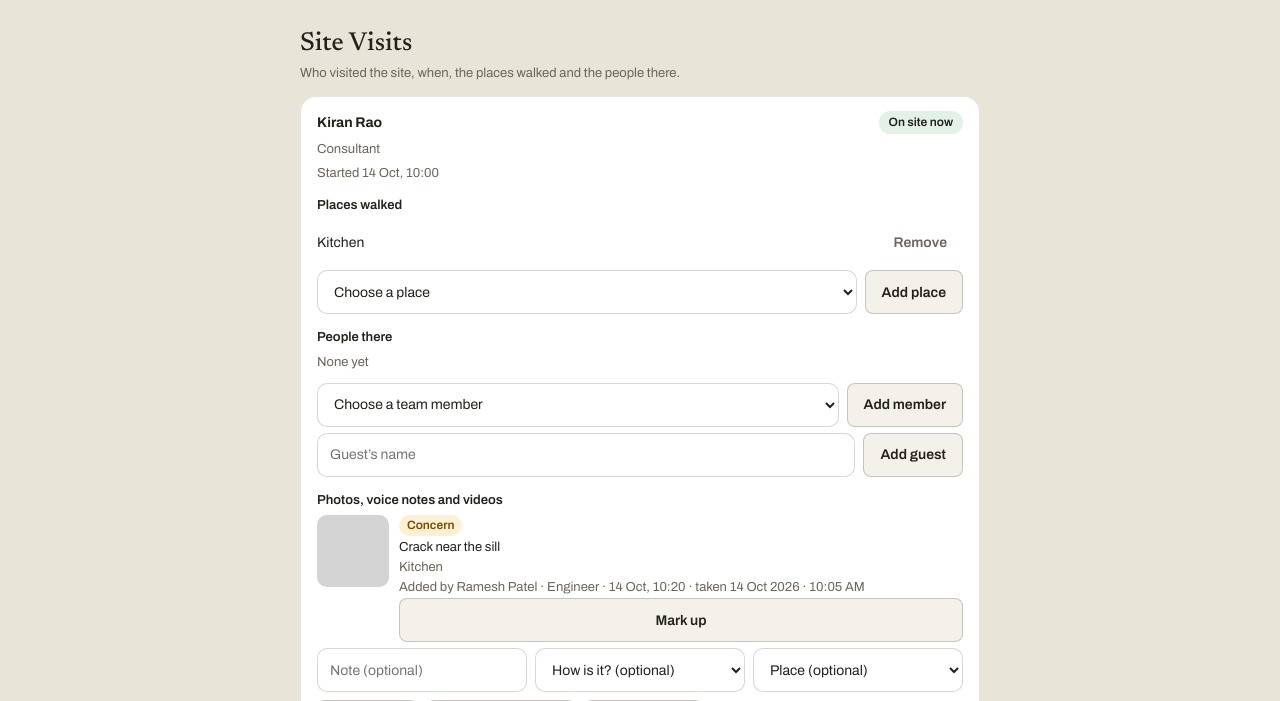
Test: Site Visits M3: Mark up on a visit’s photos › stops an open on Cancel: the download is aborted, and a late answer never opens the editor or says anything
The width and height of the screenshot is (1280, 701).
Click the button "Mark up": (681, 620) x1=399 y1=598 x2=963 y2=642
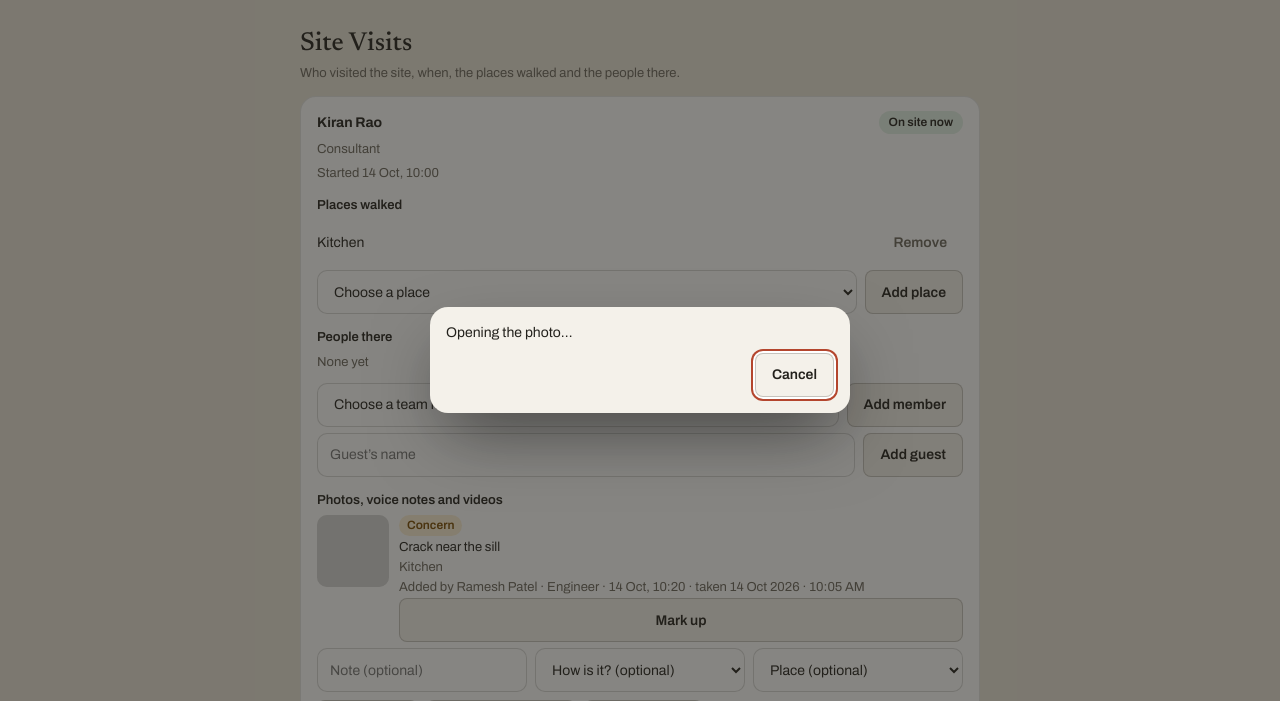
Click the button "Cancel": (794, 375) x1=755 y1=353 x2=834 y2=397
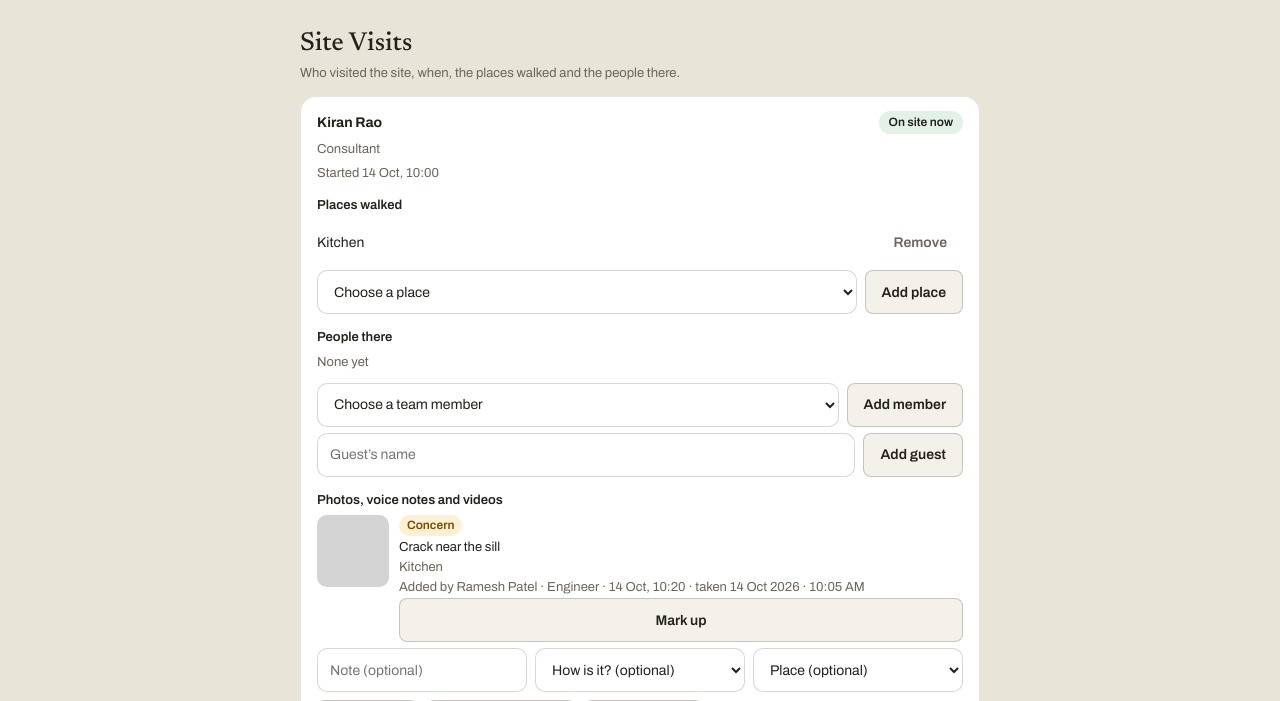
Result: the message "Opening the photo…" is gone
